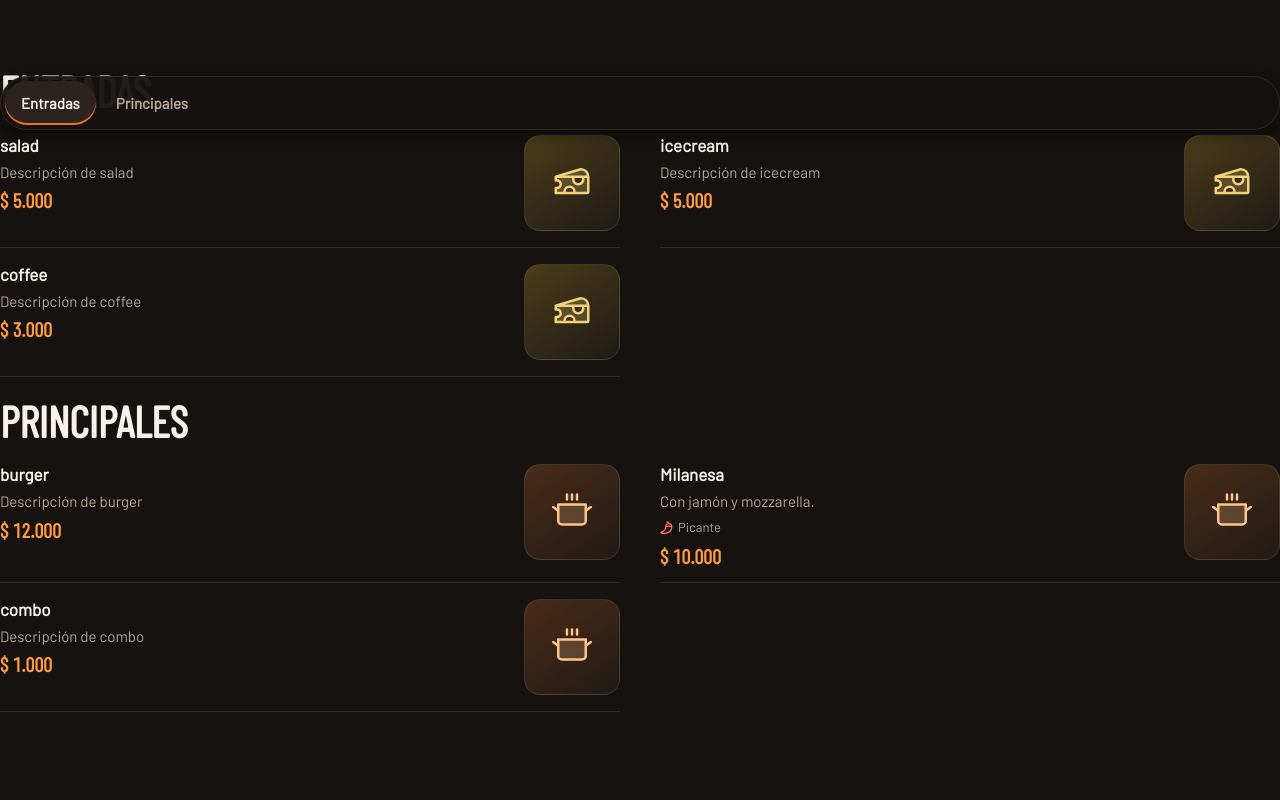
Test: DishSheet: ficha del plato (RF2, RF6, RF14-RF20, RF34, RF43) › agregar (RF19, CL9, P6) › suma la línea con sus opciones y nota, cierra la ficha y anuncia "Agregado: …"
The width and height of the screenshot is (1280, 800).
(page scrolled)
Expected: the navigation bar is shown, [0,76,1279,130]
Click the button "burger Descripción de burger $ 12.000": {"x": 24, "y": 474} [0,448,620,576]
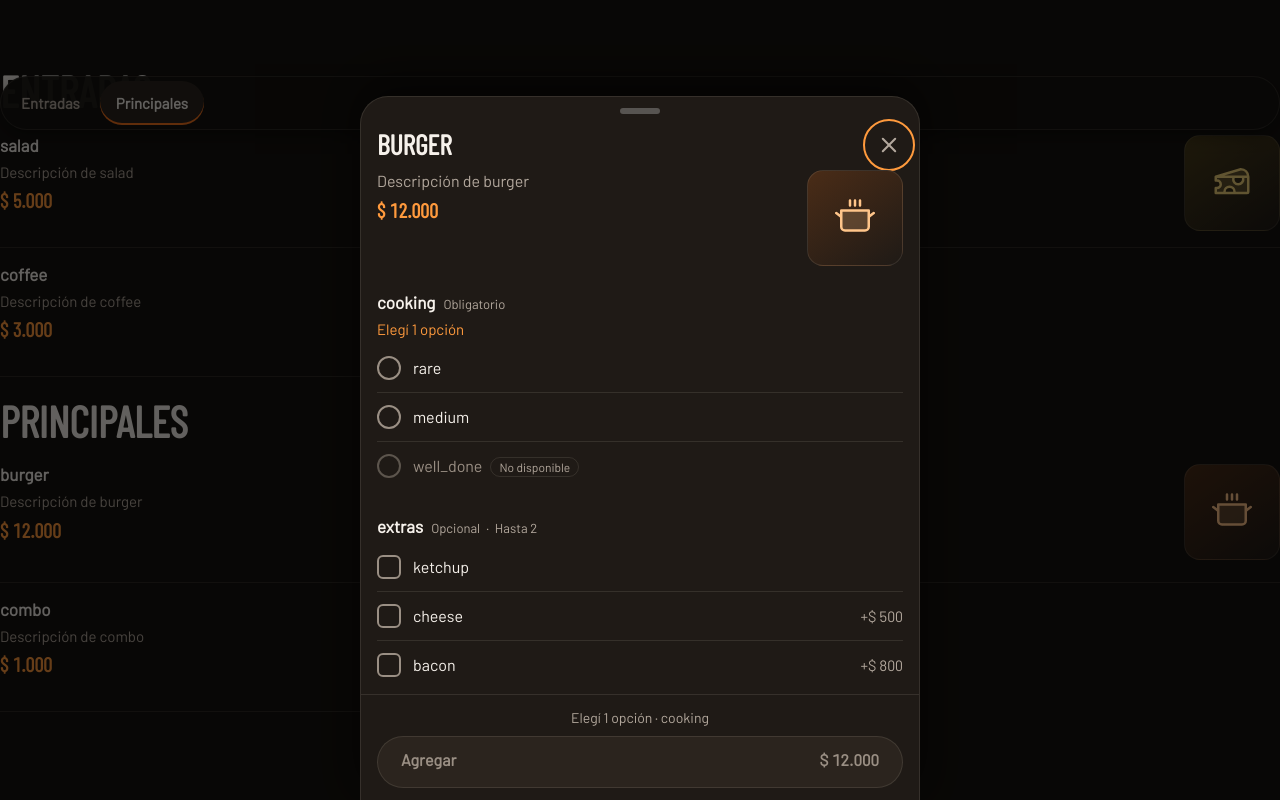
Click the radio button labelled "medium": {"x": 423, "y": 417} [377,405,469,429]
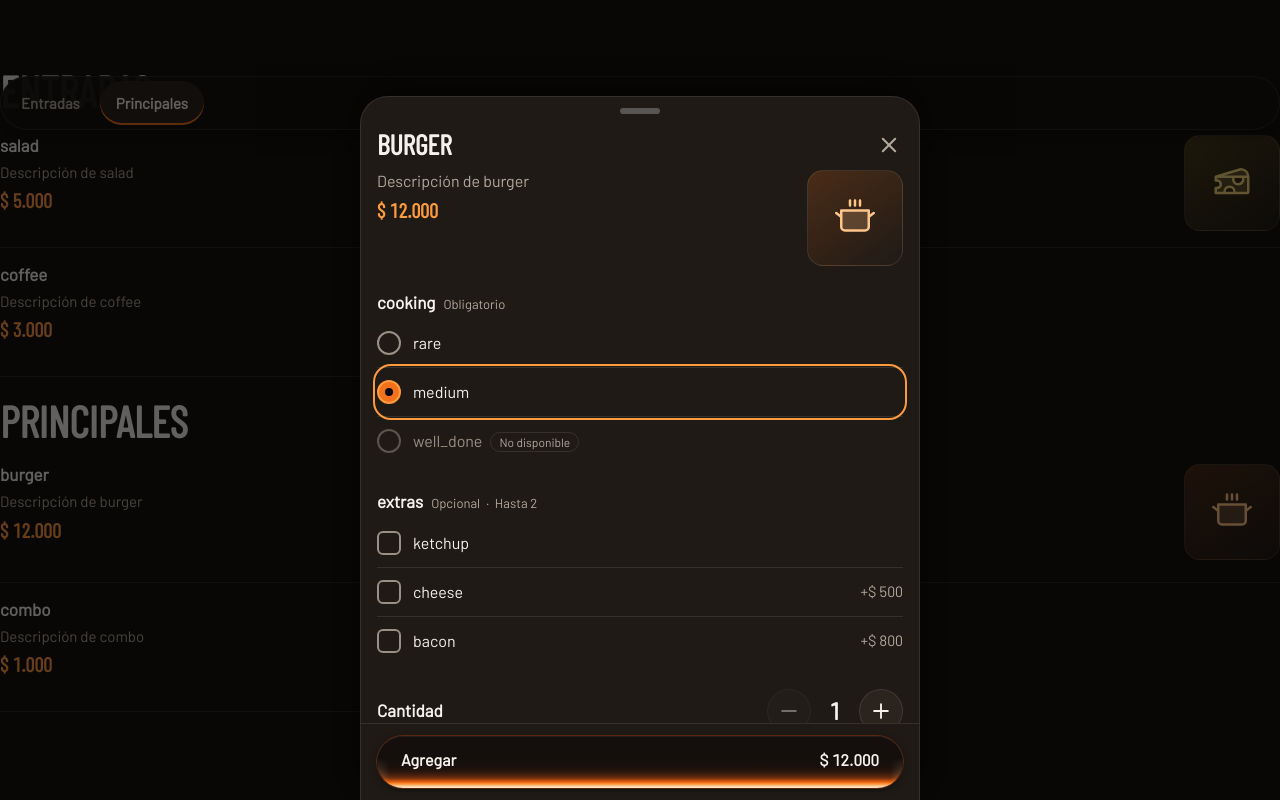
Click the checkbox labelled "cheese +$ 500": {"x": 438, "y": 591} [377,580,903,604]
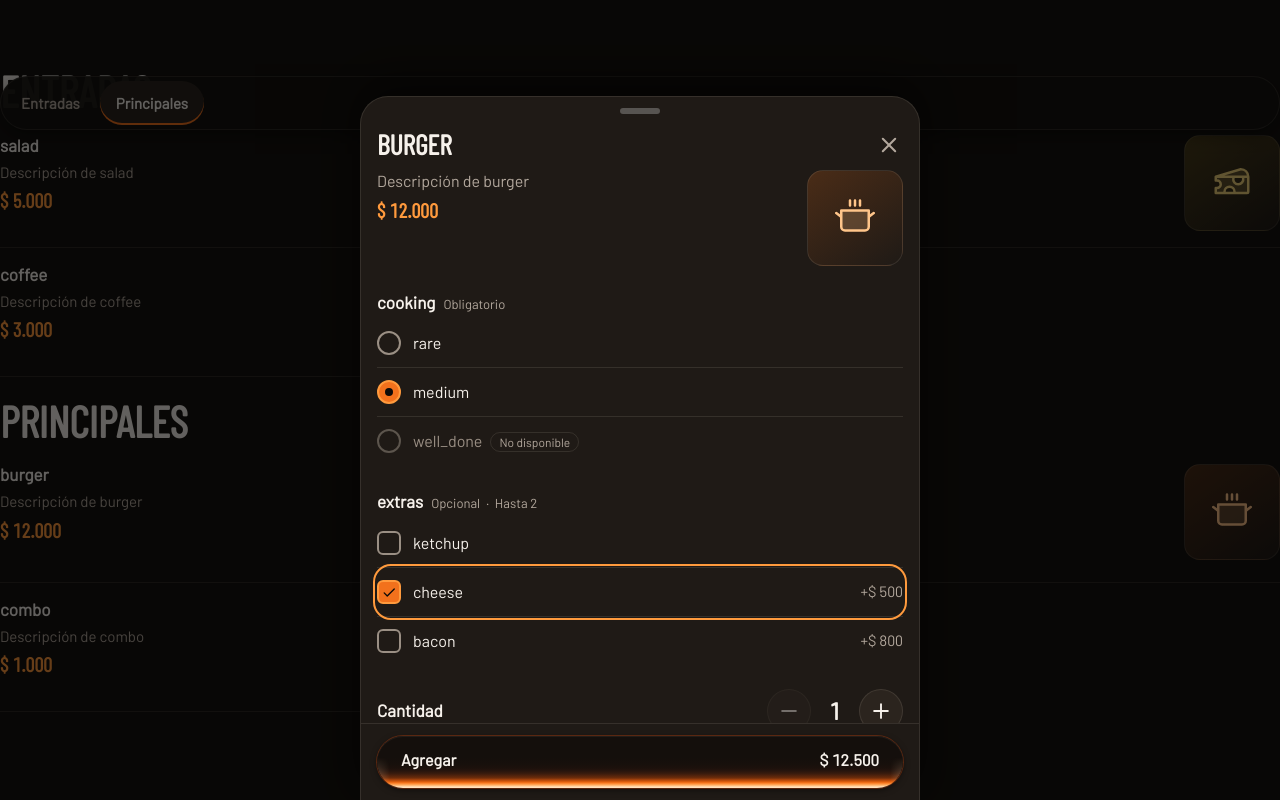
Click the button named "Aumentar cantidad": {"x": 881, "y": 711} [859,689,903,733]
(page scrolled)
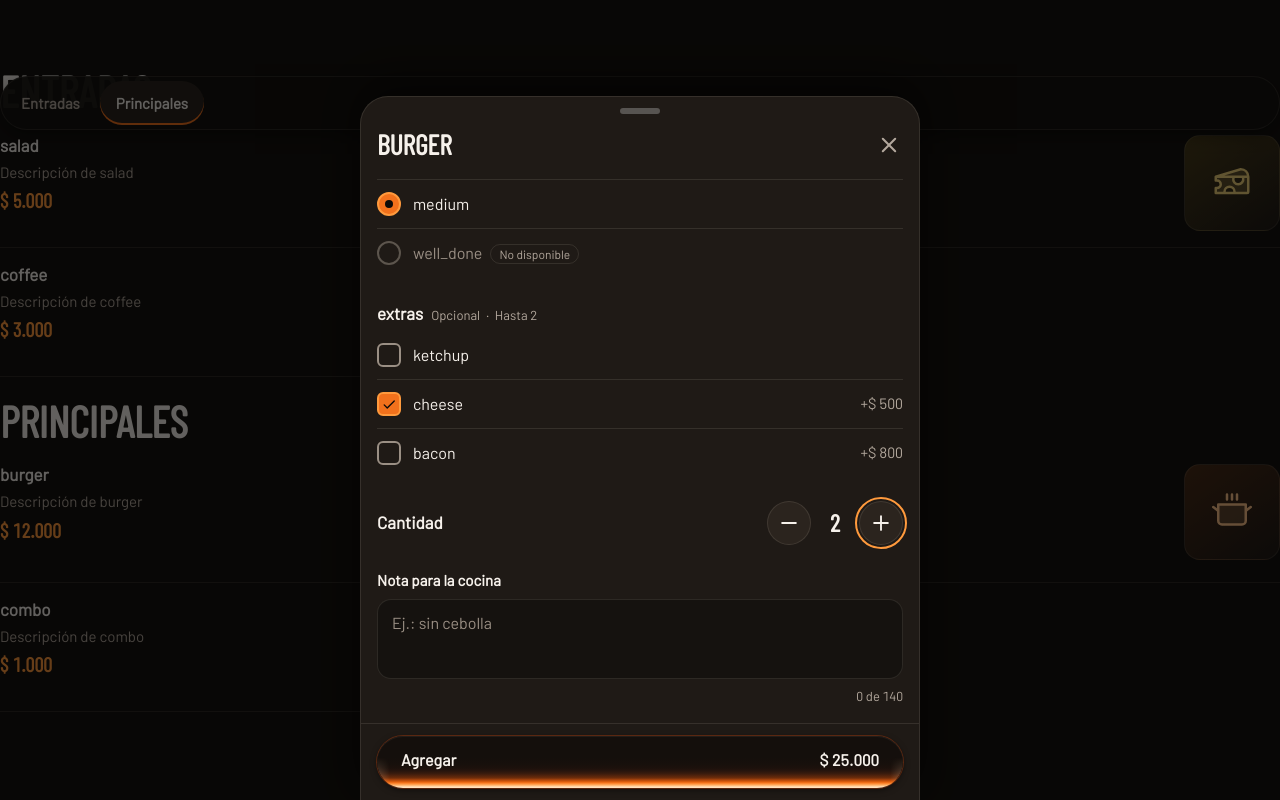
In the text box labelled "Nota para la cocina": {"x": 640, "y": 639} [377,599,903,679], type "sin sal"
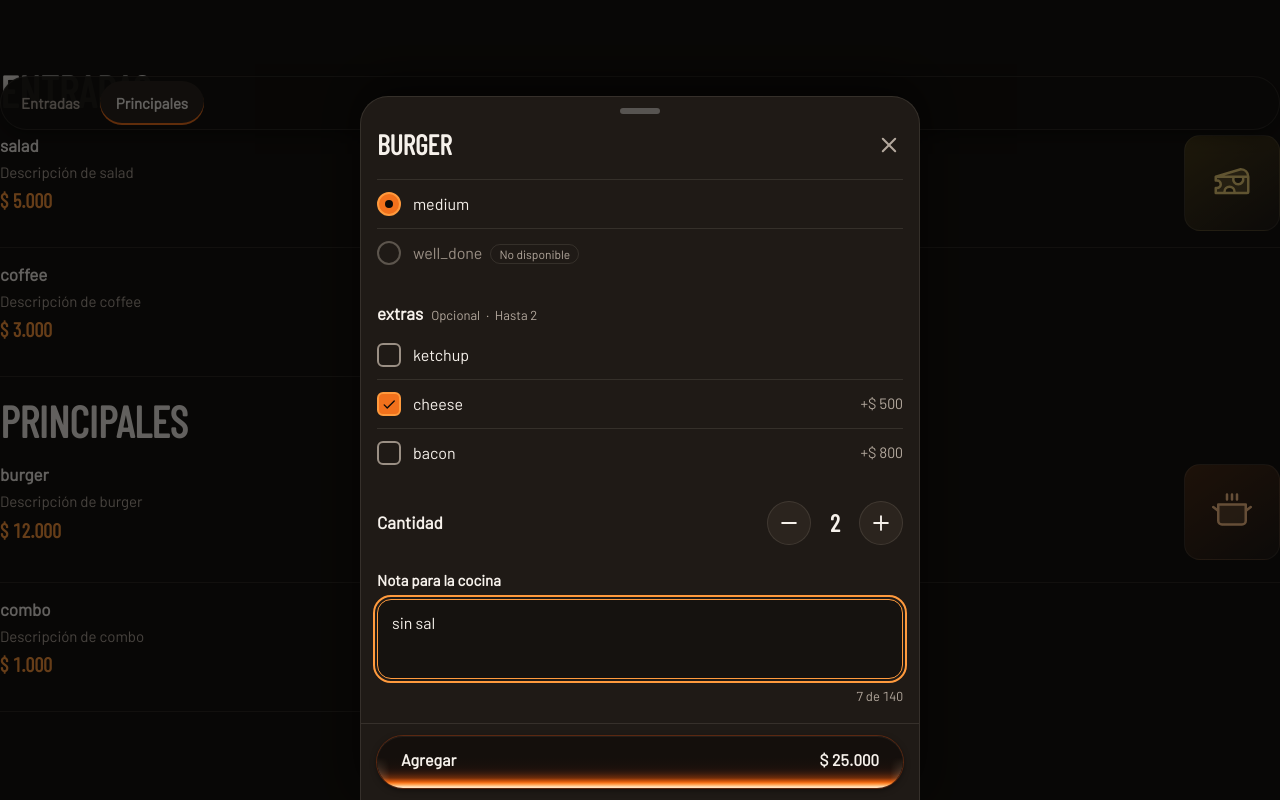
Click the button "Agregar $ 25.000": {"x": 429, "y": 760} [377,736,903,788]
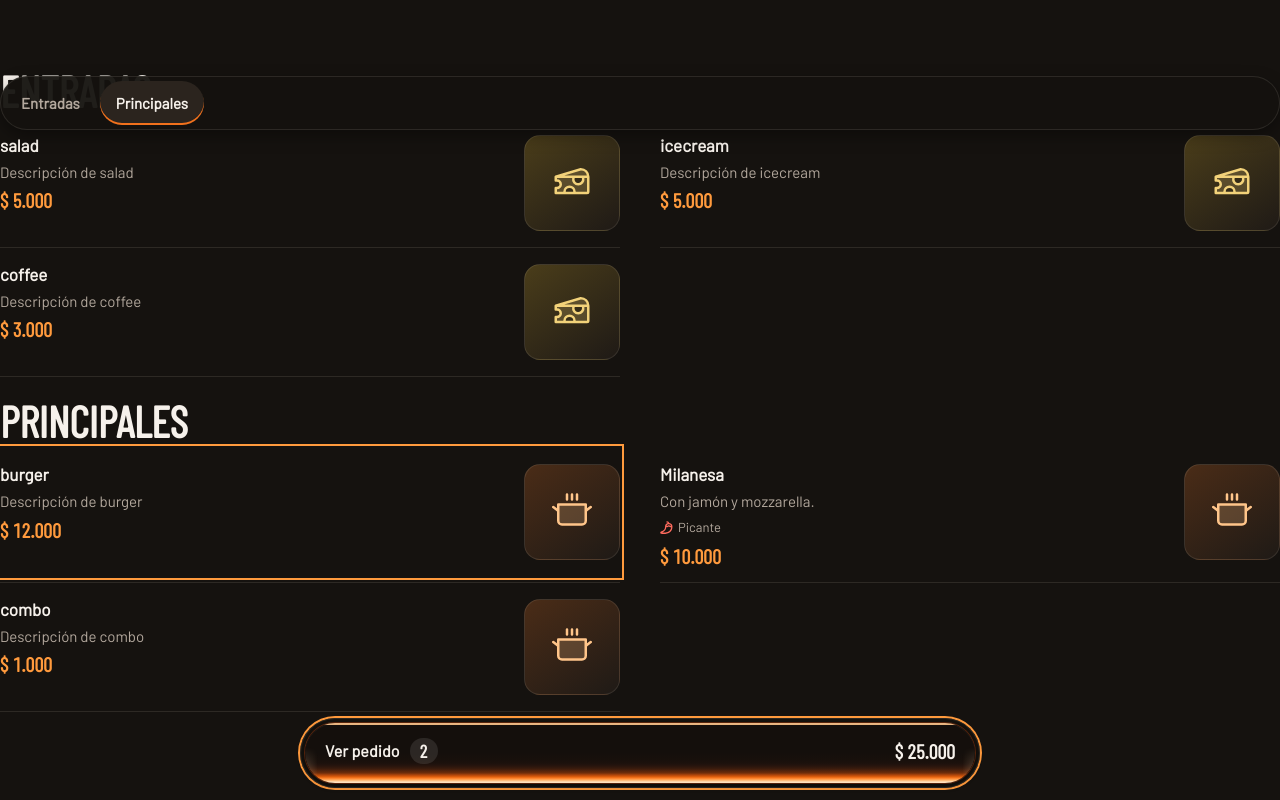
Expected: the dialog is gone
